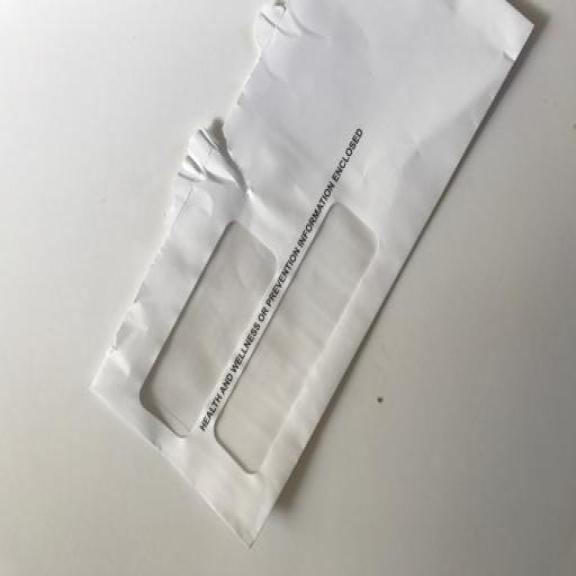Kertas: (71, 1, 546, 555)
